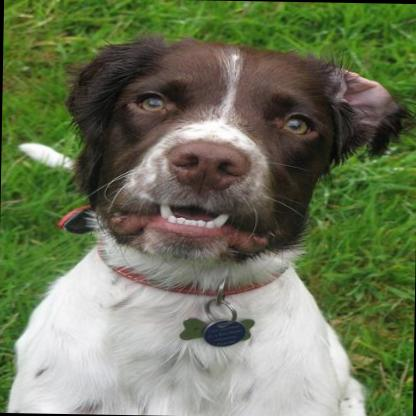English_springer: (1, 31, 414, 416)
